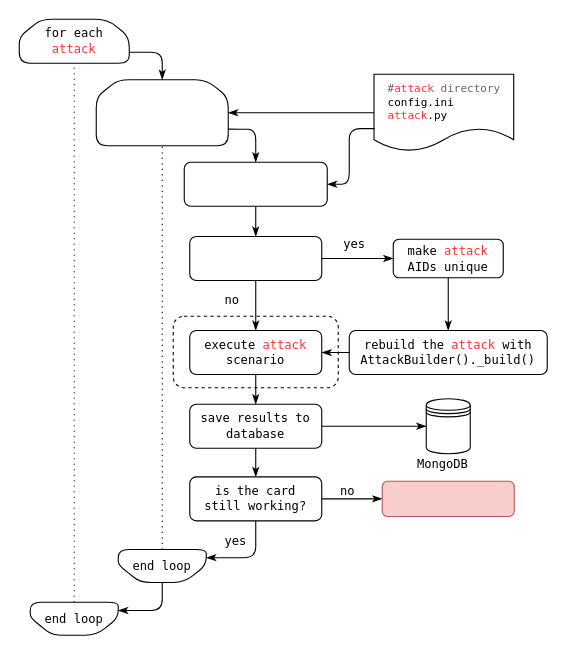
The diagram is 567 pixels wide and 655 high, and some of its shapes have lost their labels. The box of each missing label's shape, as (x1, y1, x2, y2) in pixels:
are attack AIDs already on card?: (189, 235, 322, 280)
for each SDK version from attack /config.ini: (95, 79, 228, 146)
load AttackBuilder and AttackExecutor: (183, 161, 327, 206)
stop the analysis: (381, 480, 514, 516)
